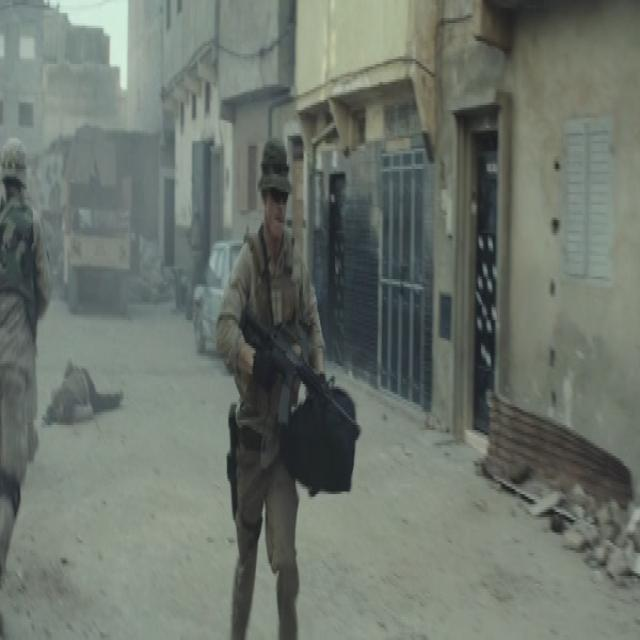rifle: (240, 305, 366, 439)
